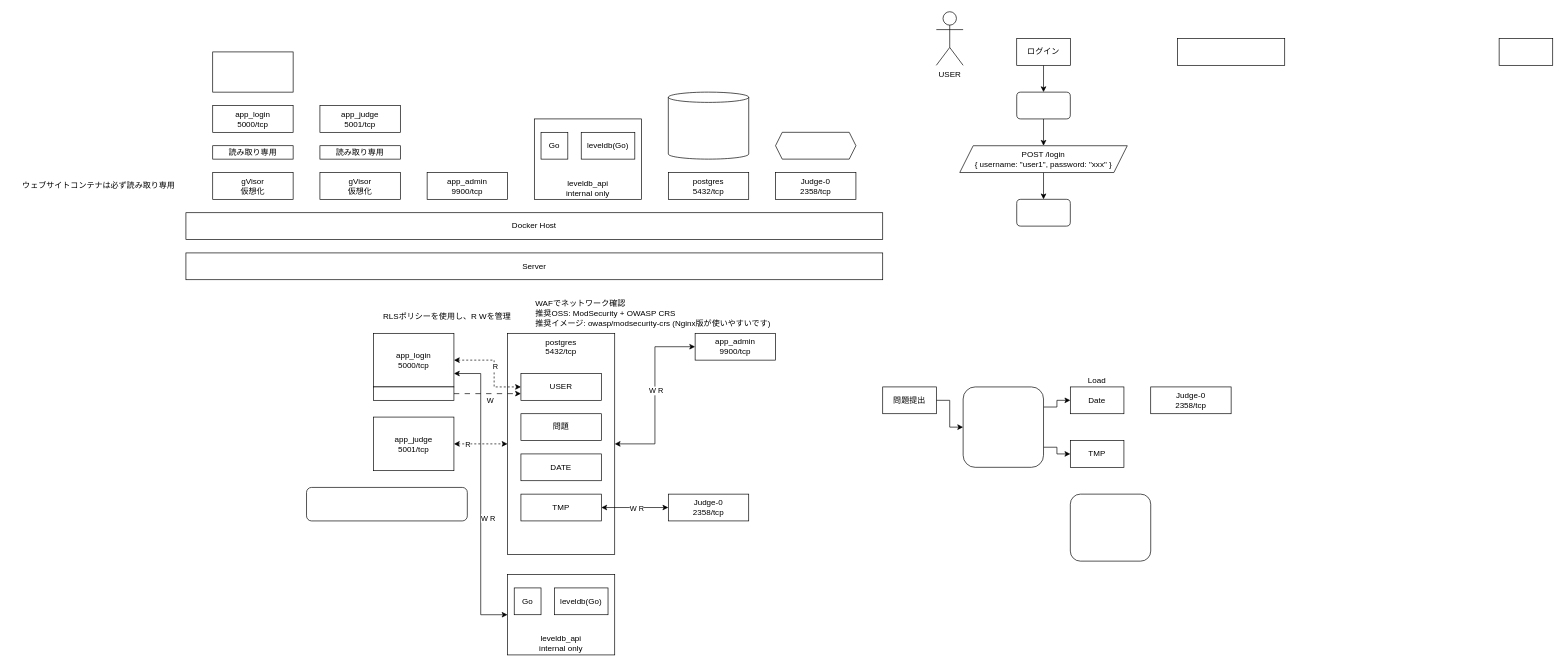
Image size: 1564x667. Some labels were removed from this diagram. Here are the shapes that lost their labels. From the top down, the box of each, then its label:
(212, 51, 293, 92): Auth0
(1177, 38, 1285, 65): ウェブサイト移動など
(1498, 38, 1553, 65): ログアウト
(668, 91, 749, 159): User Problem Date
(1016, 91, 1070, 119): USER検証
(775, 132, 856, 159): いろいろ cgroup v1
(373, 386, 454, 400): app_Sign in
(962, 386, 1044, 467): json ・UserID ・ProblemID ・ランダムID ・Code ・Status
(306, 487, 467, 521): 書き込めるのは、ユーザー名となどの 決められたjsonのデータでしか 入れないように制限する
(1070, 493, 1151, 561): json ・UserID ・ProblemID ・ランダムID ・Code
